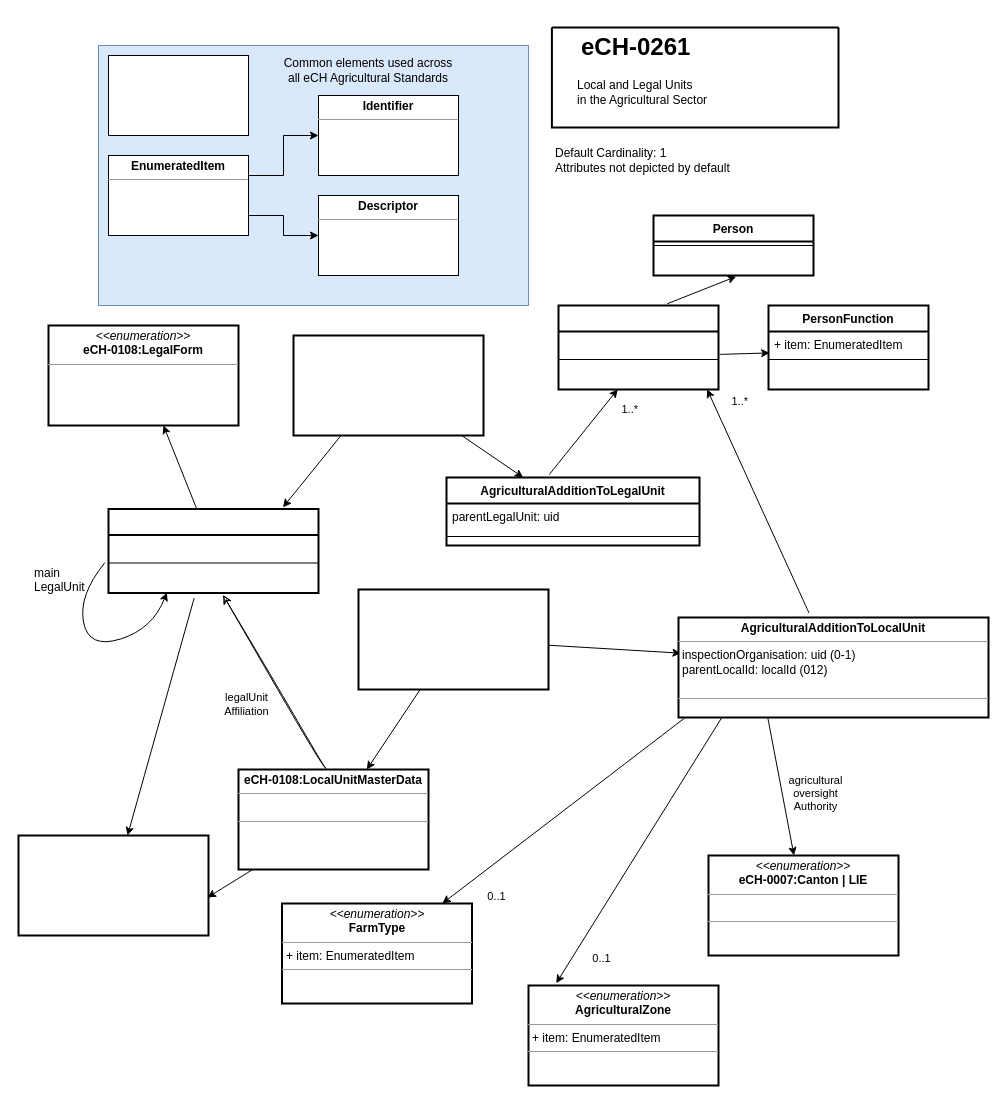
The diagram is 1006 pixels wide and 1103 high, and some of its shapes have lost their labels. Here are the shapes that lost their labels. From the top down, the centre of each, then its label:
At (178,95): "<<enumeration>> Unit".
At (638,347): "PersonPersonFunction".
At (388,385): "<<enumeration>> LegalUnit + item: EnumeratedItem".
At (213,551): "eCH-0108LegalUnitMasterData".
At (453,639): "<<enumeration>> LocalUnit mainUid: uid (0-1)".
At (113,885): "<<enumeration>> eCH-0108:UnitStatus + item: EnumeratedItem".
